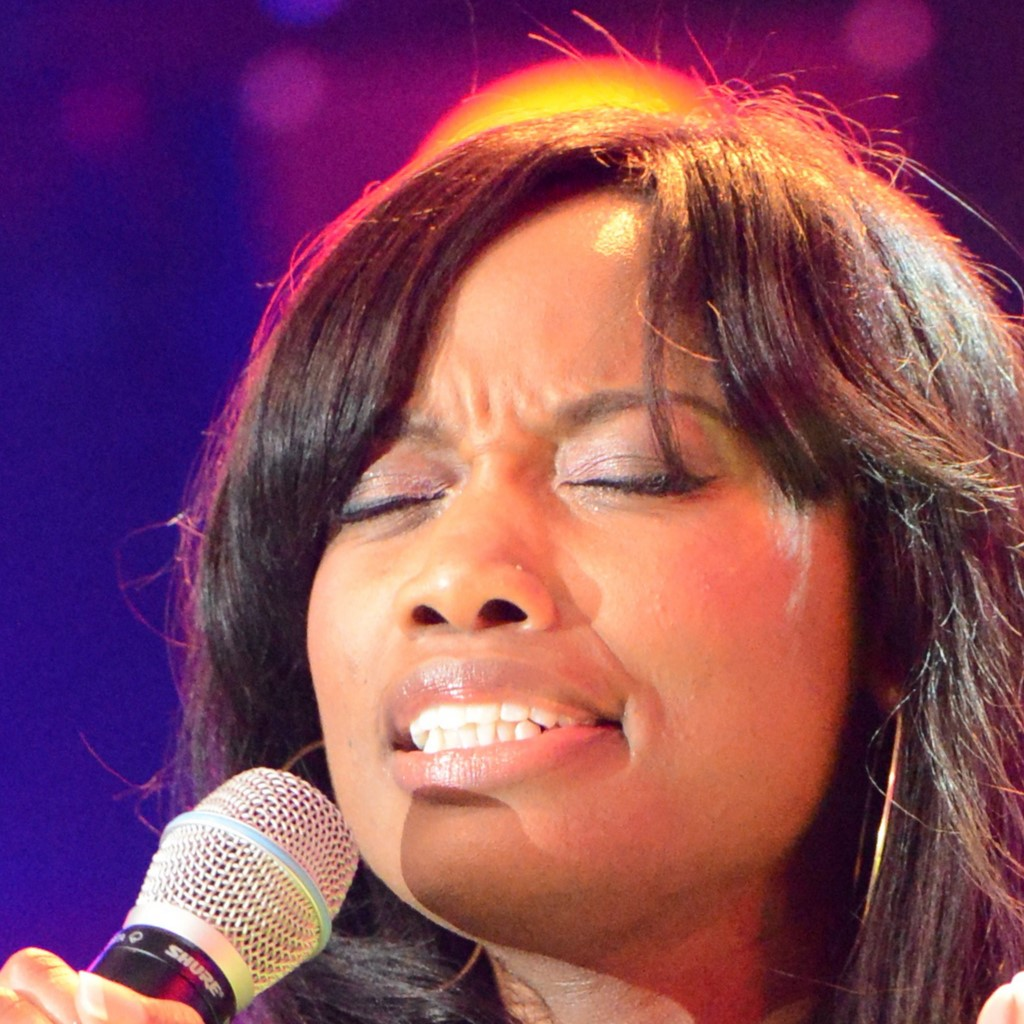sin_mascara: (279, 161, 897, 948)
